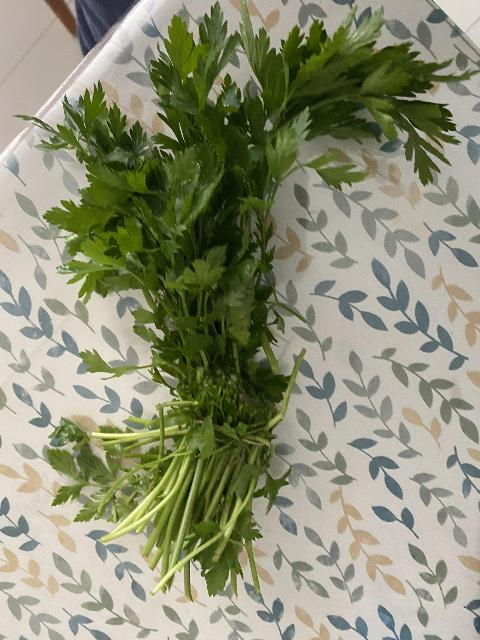Organik: (29, 27, 470, 578), (51, 202, 125, 232)
